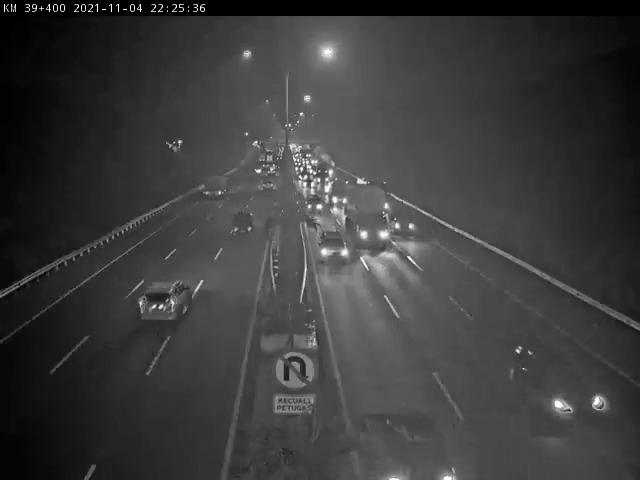car: (513, 339, 616, 427), (137, 282, 195, 322), (384, 199, 419, 237), (318, 230, 351, 265), (229, 211, 256, 239), (327, 179, 348, 208), (304, 195, 325, 214), (257, 181, 274, 195)
truck-s-: (202, 172, 229, 203)
truck-xl-: (347, 185, 393, 252)
